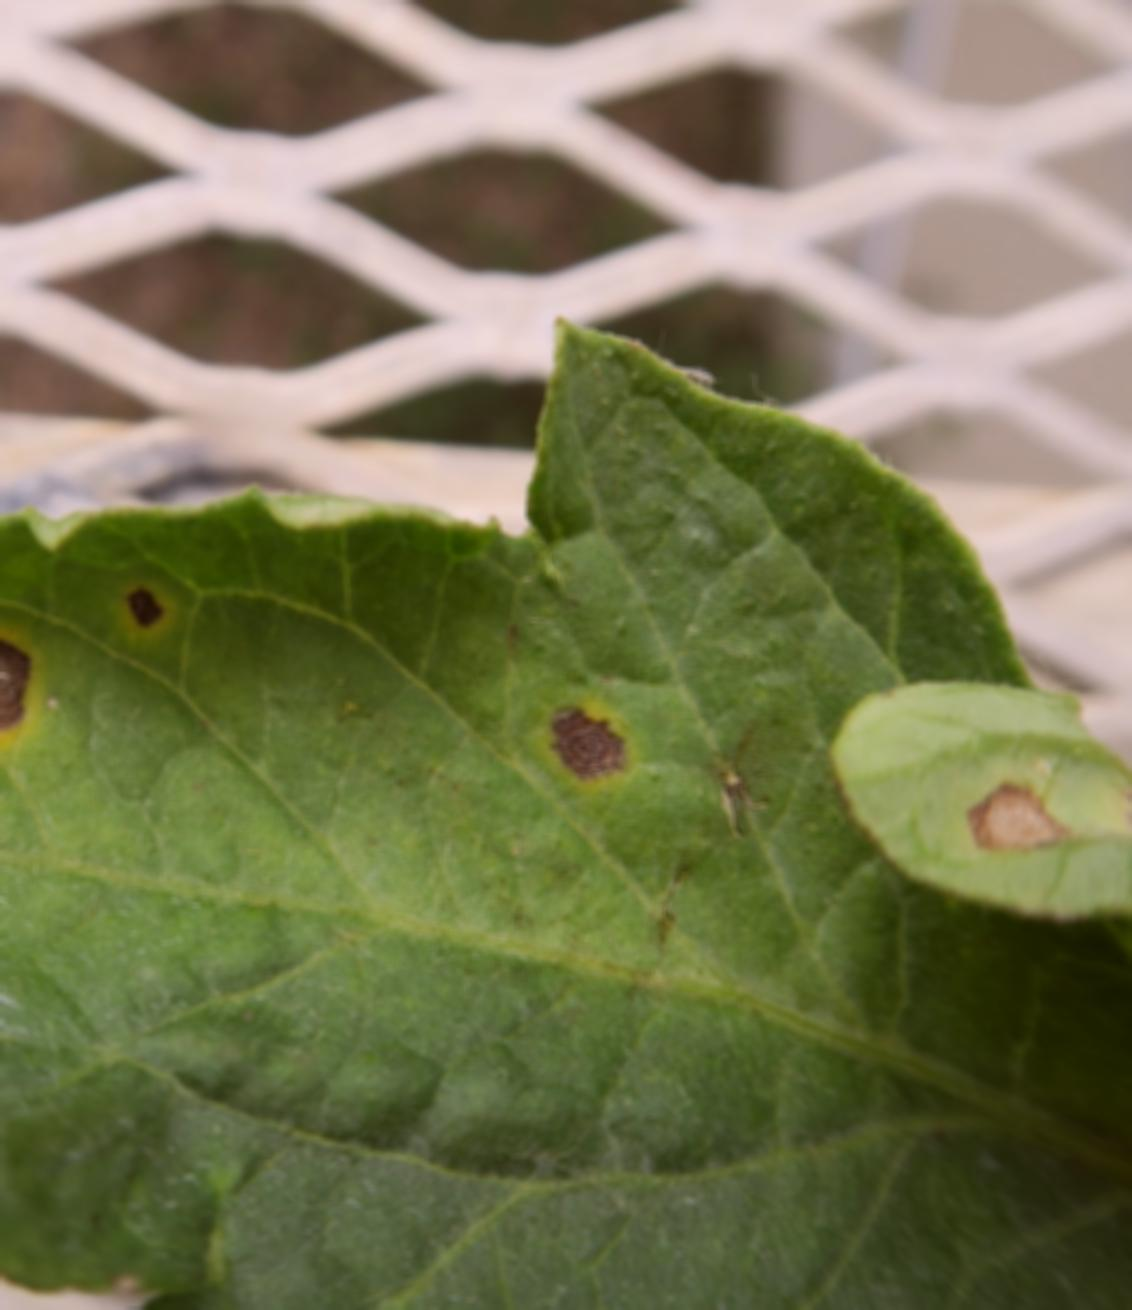Tomato Early blight leaf: (0, 341, 1132, 1310)
